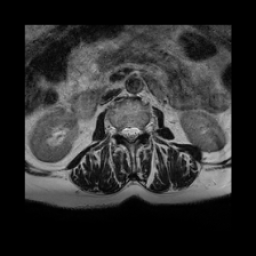CCS_normal: (128, 119, 133, 146)
LFS_normal: (139, 119, 146, 140)
LLS_normal: (133, 122, 139, 141)
RFS_normal: (115, 121, 121, 139)
RLS_normal: (121, 122, 128, 140)
